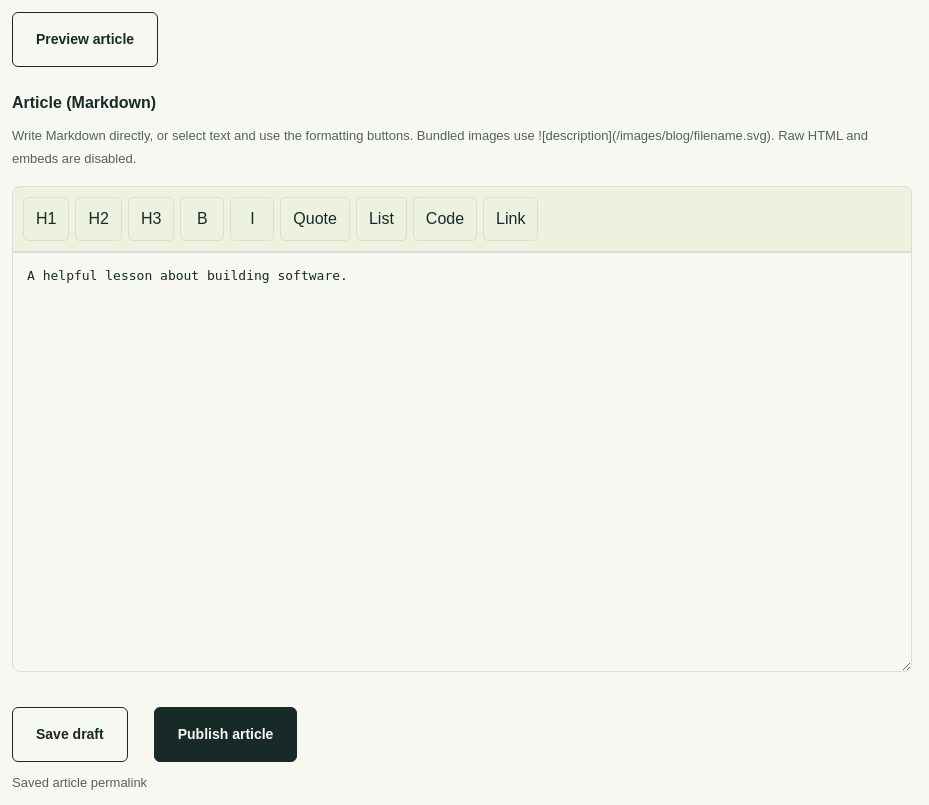
Scenario: saves drafts without claiming publication and uses the returned version for publishing
(page scrolled)
Click the button "Save draft": click(70, 734) [12,707,128,762]
(page scrolled)
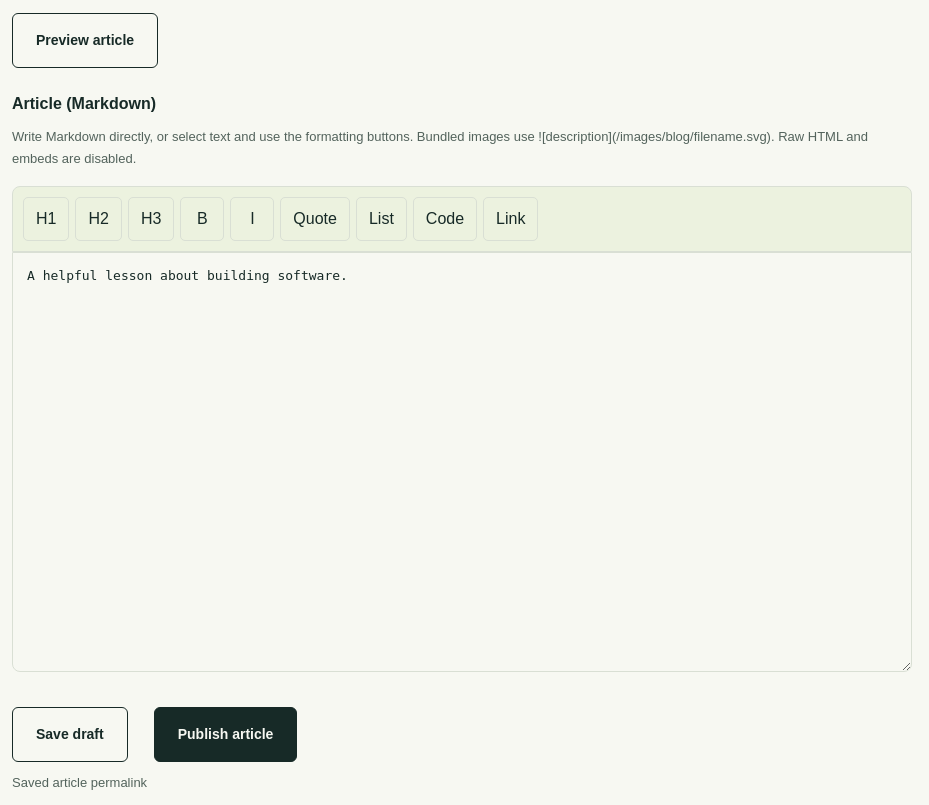
Click the button "Publish article": click(226, 734) [154,707,297,762]
(page scrolled)
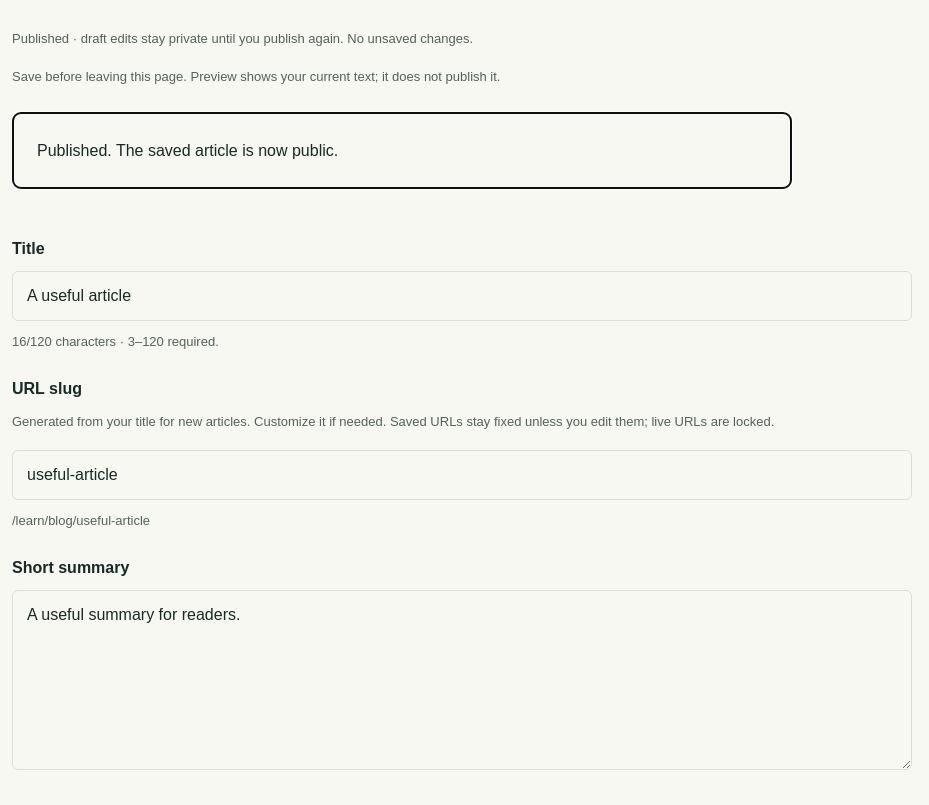
Now the message shows "now public", box [37,142,338,159]
Now the field labelled "URL slug" is disabled, box [12,450,912,500]
